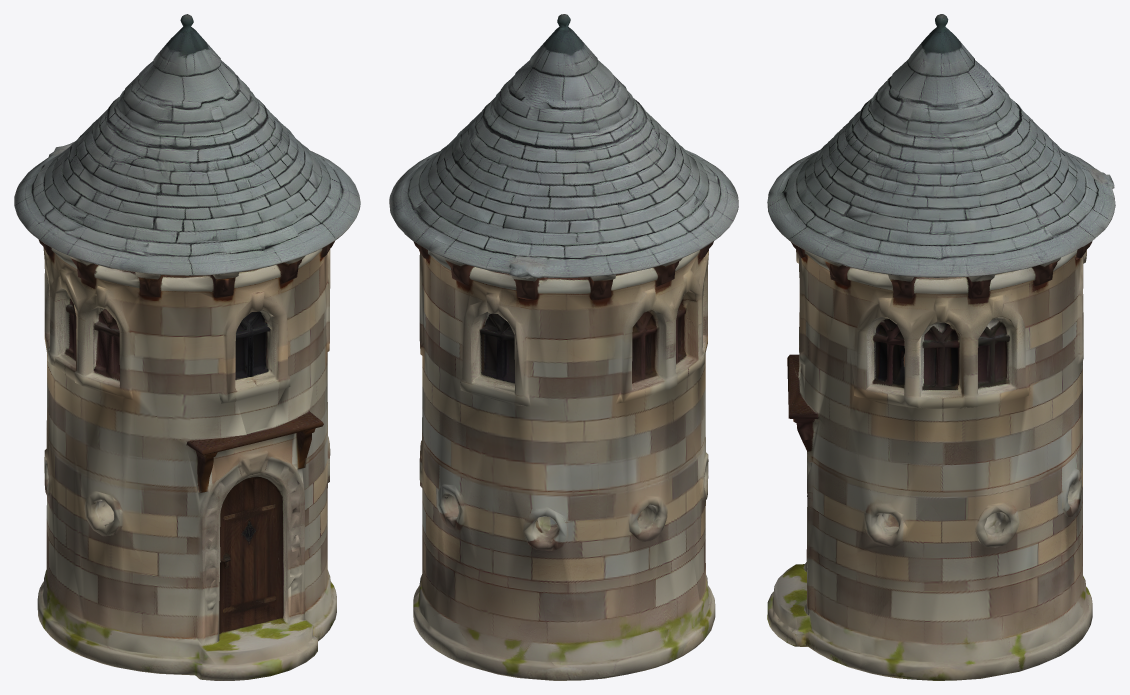
The model's file is prop-tower.glb.
The picture shows the model from 3 angles, left to right: view 1: azimuth 30°, elevation 25°; view 2: azimuth 150°, elevation 25°; view 3: azimuth 270°, elevation 25°; orthographic projection.
Size of the model in its own units: 0.9978 by 1.91 by 0.9987.
1 material, 1 textured.
